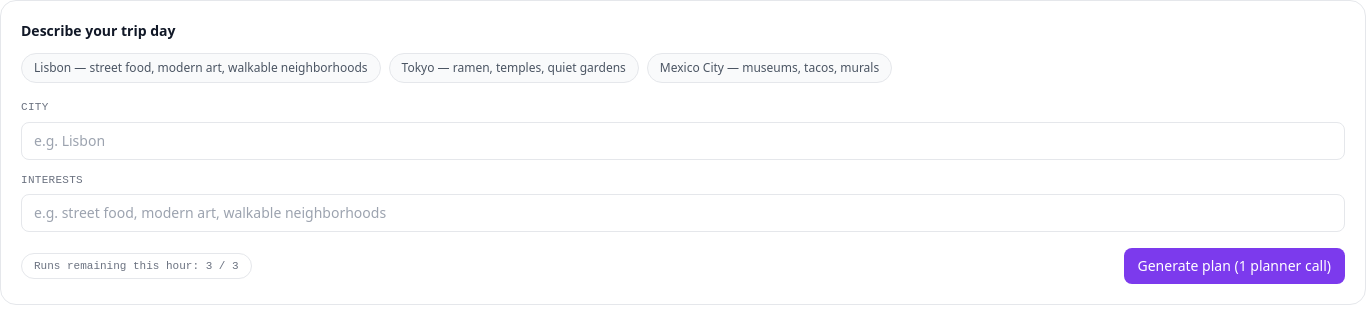
the goal form › offers preset goals that fill both fields
Click the button "Tokyo — ramen, temples, quiet gardens" at (514, 68), box 389,53 -> 639,83
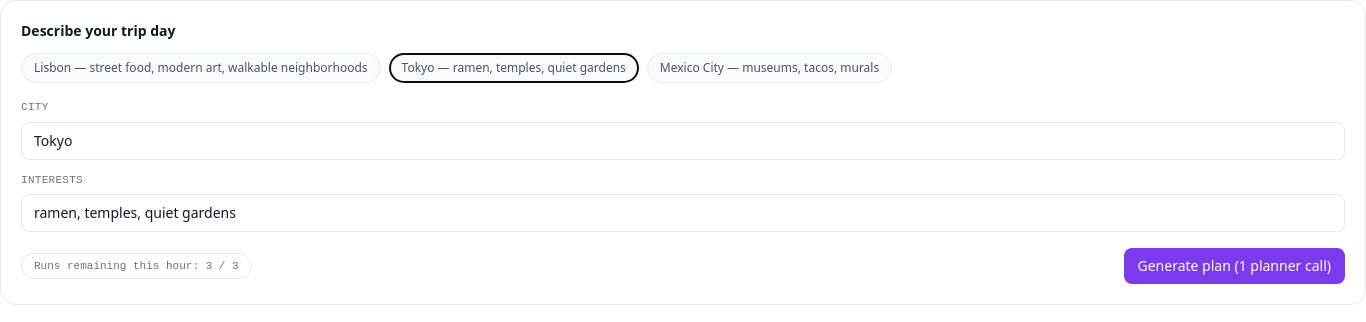
Now the field labelled "City" holds "Tokyo", box 21,122 -> 1345,160
Now the field labelled "Interests" holds "ramen, temples, quiet gardens", box 21,194 -> 1345,232
